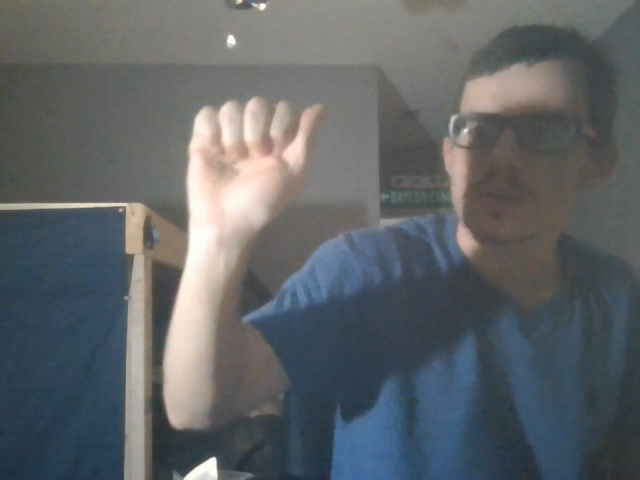A: (174, 93, 330, 243)
